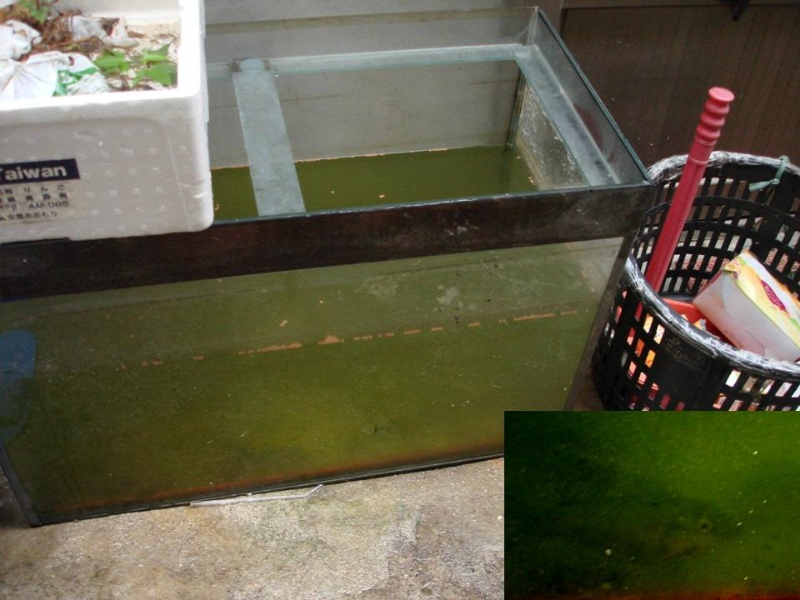aquarium: (1, 1, 655, 525)
styrofoam: (1, 1, 210, 249)
